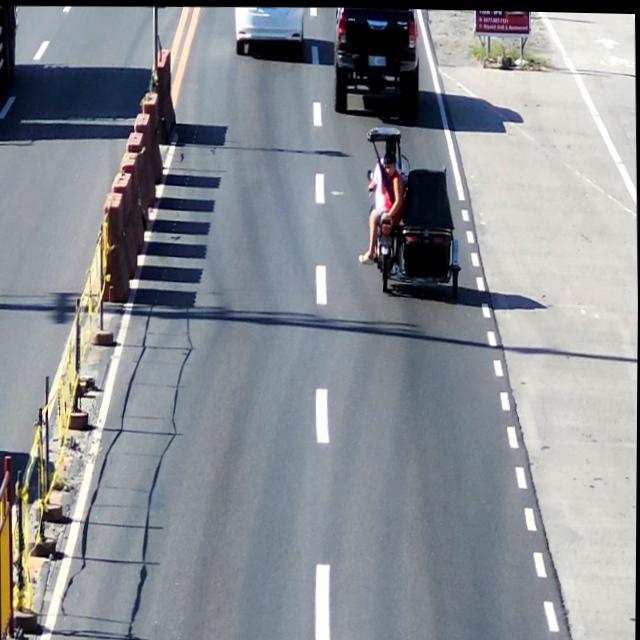Car: (331, 6, 422, 115), (229, 5, 309, 61)
License-Plate: (377, 228, 394, 246), (367, 52, 389, 65)
Tricycle: (360, 120, 464, 307)
